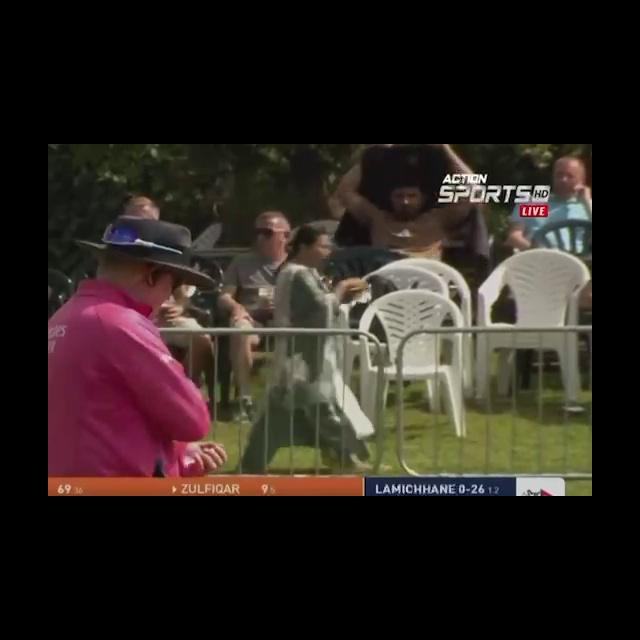umpire: (48, 172, 405, 446)
